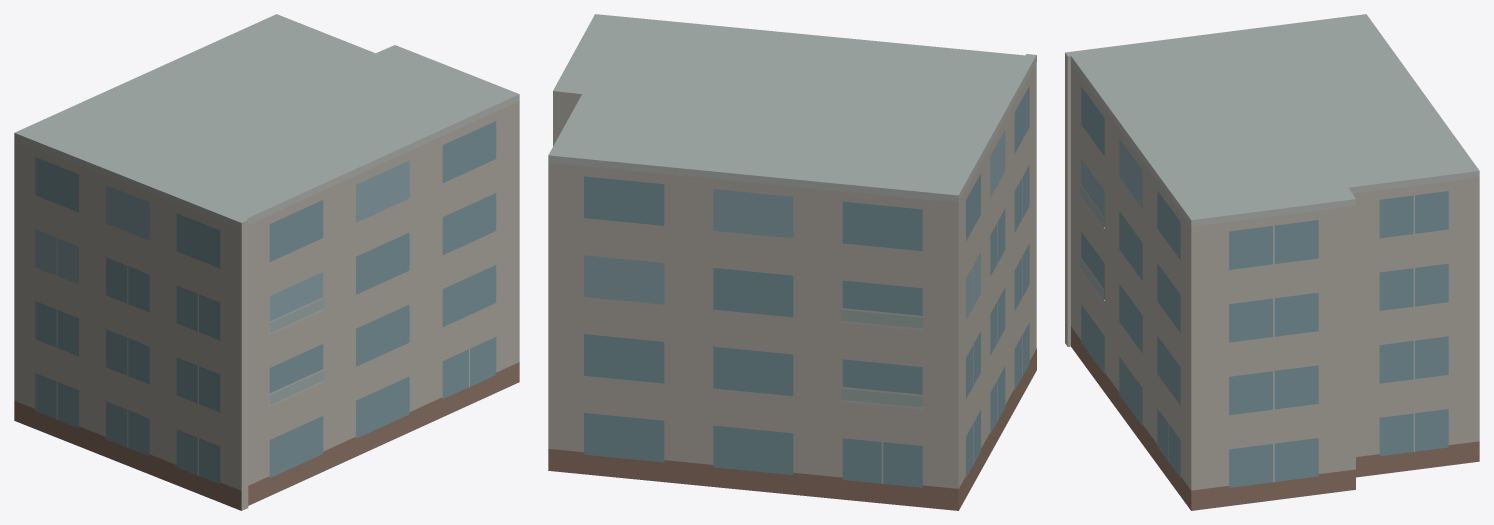
File: survey-upis-32839684.glb
The picture shows the model from 3 angles, left to right: view 1: azimuth 30°, elevation 25°; view 2: azimuth 150°, elevation 25°; view 3: azimuth 270°, elevation 25°; orthographic projection. The views are drawn at different scales.
Visible parts, largest first — view 1: survey-upis-32839684.tmp; view 2: survey-upis-32839684.tmp; view 3: survey-upis-32839684.tmp.
Boxes of the visible parts, left/top/right/bottom form: survey-upis-32839684.tmp: left=14, top=14, right=519, bottom=510; survey-upis-32839684.tmp: left=548, top=14, right=1036, bottom=510; survey-upis-32839684.tmp: left=1065, top=14, right=1479, bottom=510.
Bounding box in the file's own units: 15.99 × 10.5 × 13.58.
